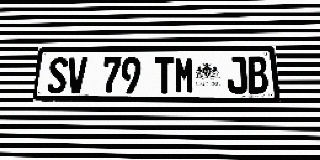7: (101, 57, 121, 94)
9: (121, 57, 141, 94)
B: (246, 56, 269, 94)
J: (226, 57, 248, 94)
M: (175, 57, 195, 94)
S: (47, 57, 68, 94)
T: (155, 57, 174, 94)
V: (66, 57, 88, 94)
